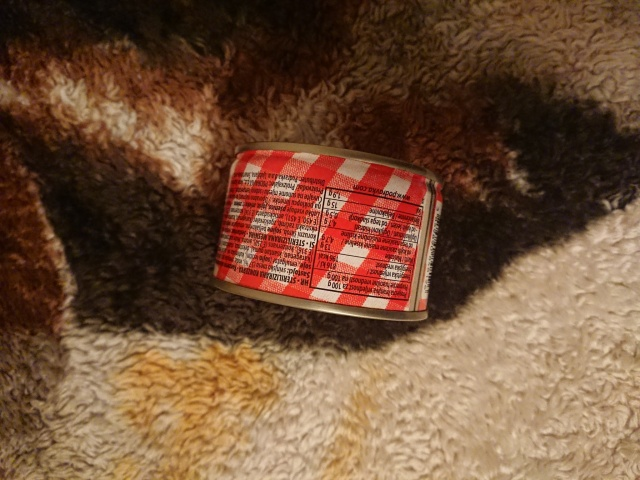Podravka Luncheon Meat 150g: (207, 139, 445, 323)
